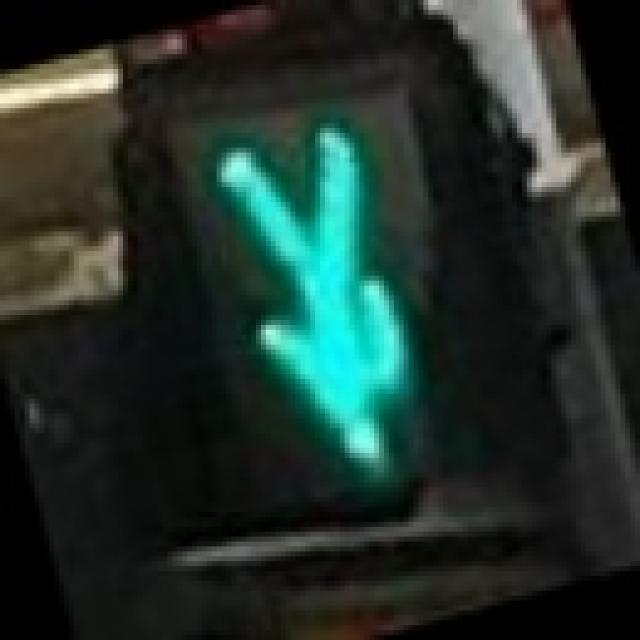geen-crossing: (94, 64, 532, 561)
